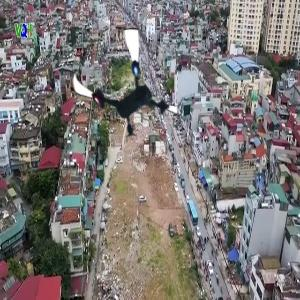drone: (67, 29, 184, 146)
